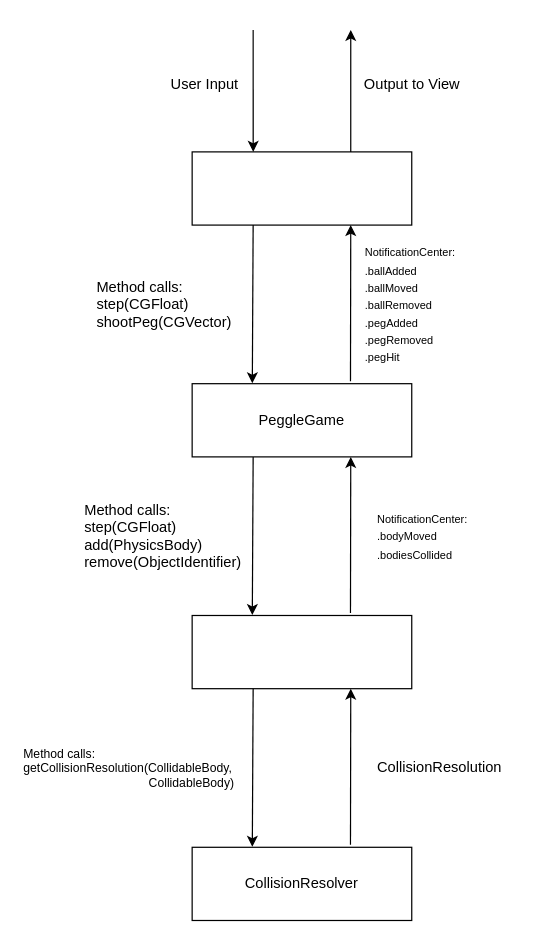
This 554x942 diagram has some shape labels left out. The centre of each missing label's shape, as x and y in pixels:
PeggleGameViewController: the point at 301,188
PhysicsWorld: the point at 301,651
